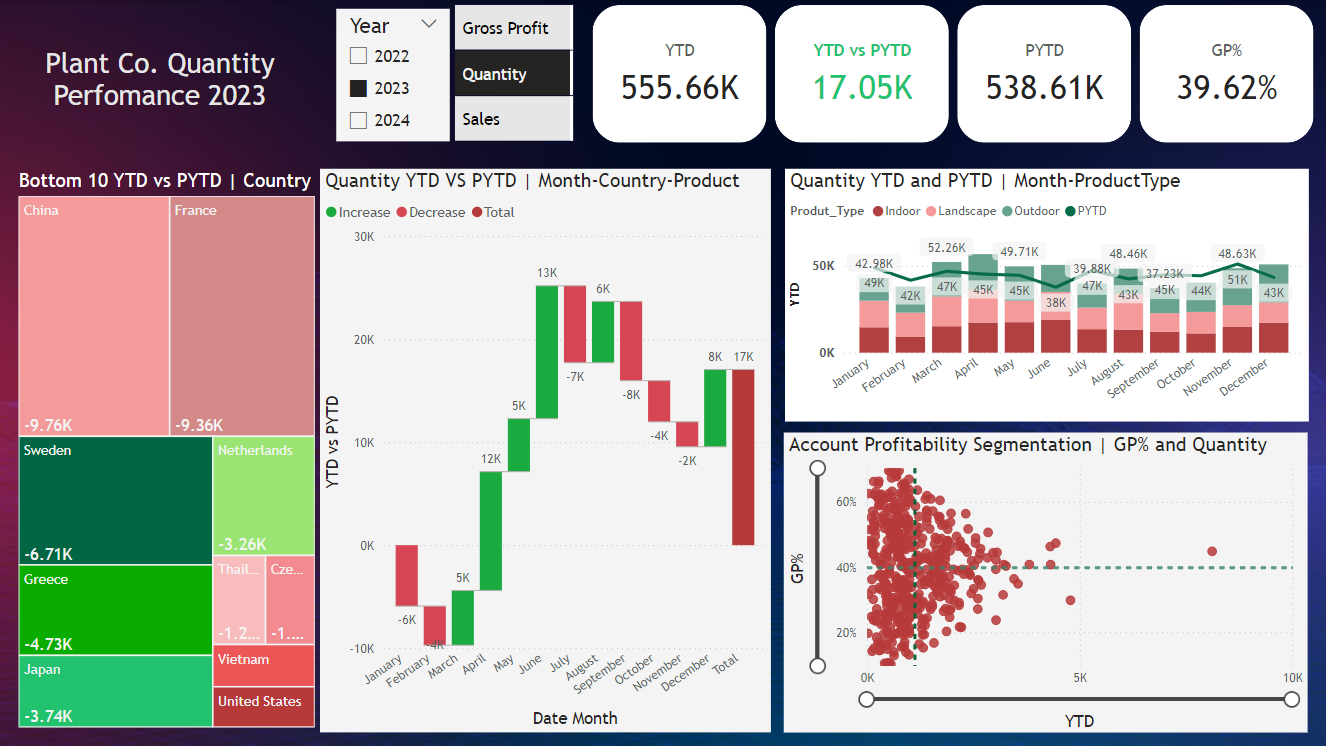

What the dashboard file says about the page in this screenshot:
{"tool":"powerbi","page":{"name":"Perfomance Report","canvas":[1280,720],"ordinal":0},"visuals":[{"type":"cardVisual","fields":{"Data":["_Measure.S_YTD","_Measure.YTD vs PYTD","_Measure.S_PYTD","_Measure.GP%"]},"box":[567,0,708.2,143.6],"z":0},{"type":"advancedSlicerVisual","fields":{"Values":["Slc_Values.Value"]},"box":[434.3,0,124.3,143.6],"z":1000},{"type":"slicer","fields":{"Values":["Dim_Date.Date.Variation.Date Hierarchy.Year"]},"box":[324.5,8.4,109.8,127.9],"z":2000},{"type":"treemap","title":"Bottom 10 YTD vs PYTD | Country","fields":{"Values":["_Measure.YTD vs PYTD"],"Group":["Dim_Accounts.country2"]},"box":[13.3,162.9,295.6,544.1],"z":3000},{"type":"waterfallChart","fields":{"Y":["_Measure.YTD vs PYTD"],"Category":["Dim_Date.Date.Variation.Date Hierarchy.Month","Dim_Accounts.country2","Plant_Hierarchy.Produt_Type","Plant_Hierarchy.Product_Name"]},"box":[308.8,162.9,435.5,544.1],"z":4000},{"type":"lineStackedColumnComboChart","fields":{"Y":["_Measure.S_YTD"],"Y2":["_Measure.S_PYTD"],"Category":["Dim_Date.Date.Variation.Date Hierarchy.Quarter","Dim_Date.Date.Variation.Date Hierarchy.Month"],"Series":["Plant_Hierarchy.Produt_Type"]},"box":[757.6,162.9,505.5,243.7],"z":5000},{"type":"scatterChart","fields":{"Y":["_Measure.GP%"],"X":["_Measure.S_YTD"],"Category":["Dim_Accounts.Account"]},"box":[756.4,417.4,505.5,289.5],"z":6000},{"type":"card","fields":{"Values":["_Measure._Report Title"]},"box":[0,0,308.8,149.6],"z":7000}]}

Visuals, with their boxes in screenshot pixels (x1, y1, x2, y2), scaled from the page's 1280x720 canvas onto the 1326x746 screenshot:
cardVisual - _Measure.S_YTD x _Measure.YTD vs PYTD: left=587, top=0, right=1321, bottom=149
advancedSlicerVisual - Slc_Values.Value: left=450, top=0, right=579, bottom=149
slicer - Dim_Date.Date.Variation.Date Hierarchy.Year: left=336, top=9, right=450, bottom=141
"Bottom 10 YTD vs PYTD | Country" treemap: left=14, top=169, right=320, bottom=733
waterfallChart - _Measure.YTD vs PYTD x Dim_Date.Date.Variation.Date Hierarchy.Month: left=320, top=169, right=771, bottom=733
lineStackedColumnComboChart - _Measure.S_YTD x _Measure.S_PYTD: left=785, top=169, right=1308, bottom=421
scatterChart - _Measure.GP% x _Measure.S_YTD: left=784, top=432, right=1307, bottom=732
card - _Measure._Report Title: left=0, top=0, right=320, bottom=155
